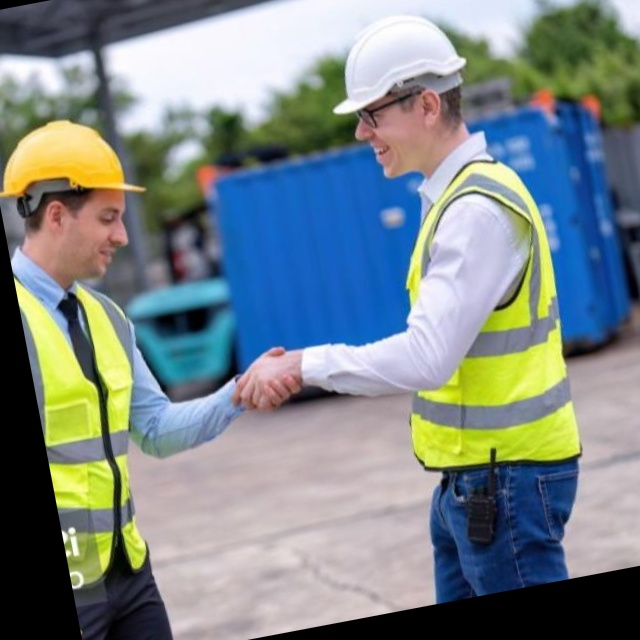Con_Casco: (319, 4, 485, 188)
Con_Chaleco: (362, 156, 603, 472)
